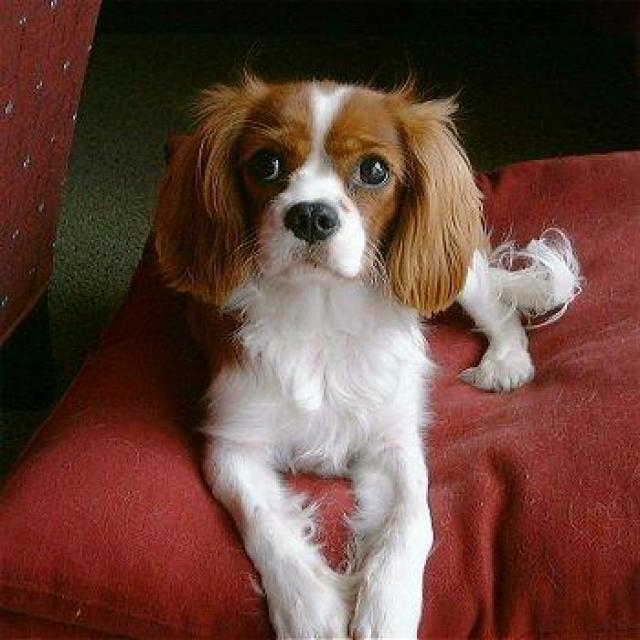blenheim_spaniel: (150, 70, 585, 638)
